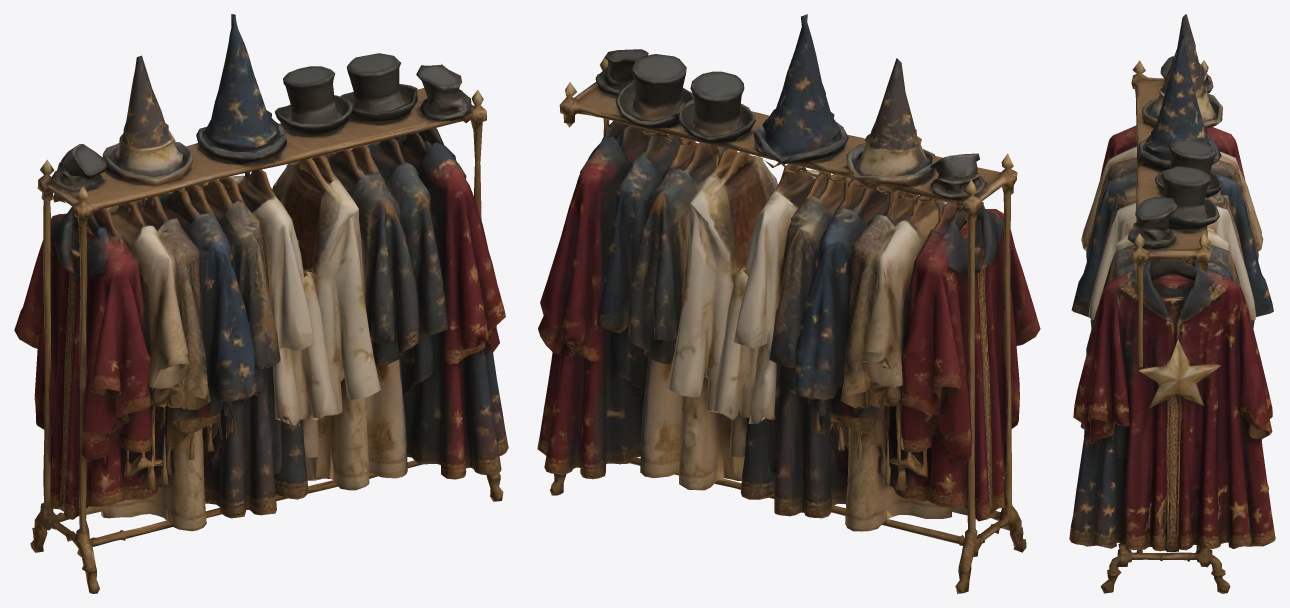
File: m_rack.glb
3 renders of one model, left to right at view 1: azimuth 30°, elevation 25°; view 2: azimuth 150°, elevation 25°; view 3: azimuth 270°, elevation 25°, orthographic. The views are drawn at different scales.
Visible parts, largest first — view 1: tripo_node_091ee9ec-3407-46d4-8dbe-350ae2502806; view 2: tripo_node_091ee9ec-3407-46d4-8dbe-350ae2502806; view 3: tripo_node_091ee9ec-3407-46d4-8dbe-350ae2502806.
Part boxes in pixels (x1,y1,x2,y2): tripo_node_091ee9ec-3407-46d4-8dbe-350ae2502806: (14, 14, 508, 593); tripo_node_091ee9ec-3407-46d4-8dbe-350ae2502806: (537, 14, 1040, 593); tripo_node_091ee9ec-3407-46d4-8dbe-350ae2502806: (1069, 14, 1275, 593).
Size of the model in its own units: 0.8495 by 1 by 0.4059.
Materials: 1 (1 with a texture image).
